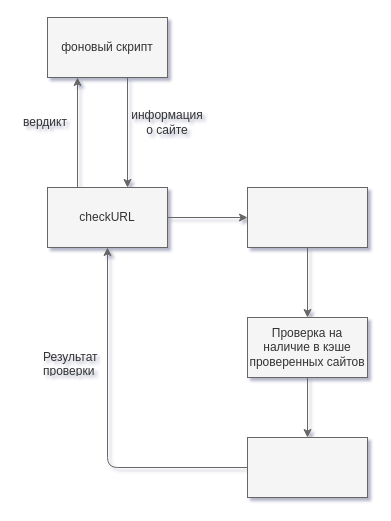
This 391x521 diagram has some shape labels left out. Each missing label, with the centre of its shape:
Запрос на API антифишинговых сервисов: [307,467]
Проверка на наличие в белом списке: [307,217]
